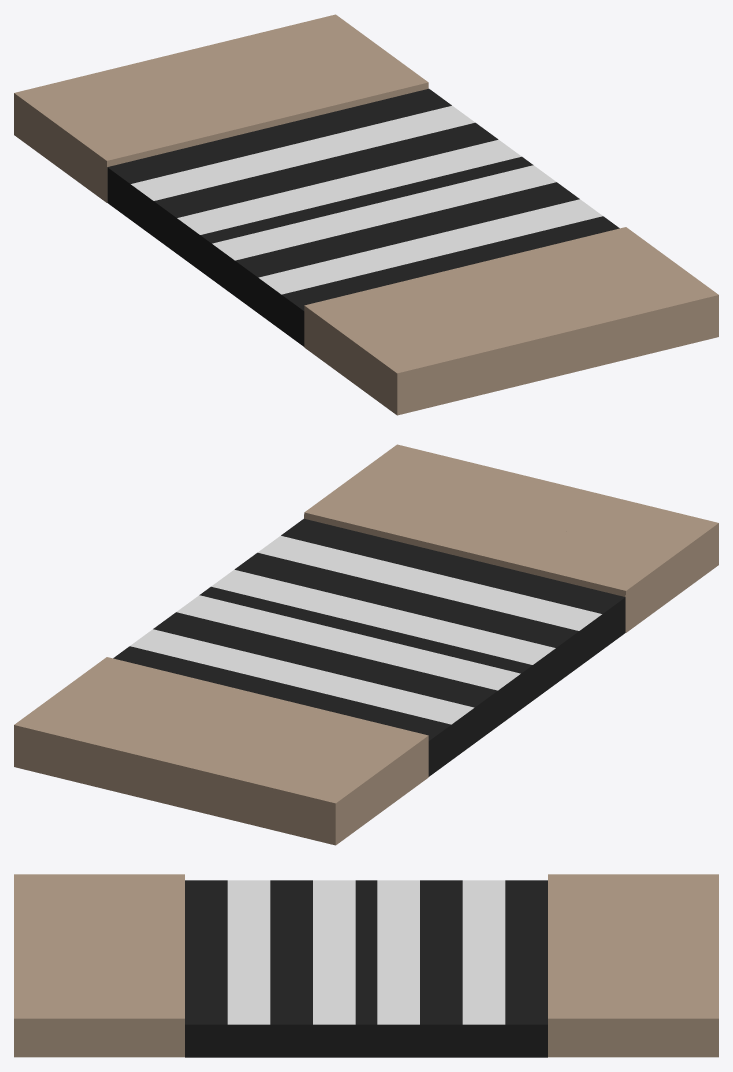
File: crosswalk.fbx
3 renders of one model, top to bottom at view 1: azimuth 30°, elevation 25°; view 2: azimuth 150°, elevation 25°; view 3: azimuth 270°, elevation 25°, orthographic. The views are drawn at different scales.
Visible parts, largest first — view 1: Cube.001; view 2: Cube.001; view 3: Cube.001.
Part boxes in pixels (x1,y1,x2,y2): Cube.001: (14,14,718,415); Cube.001: (14,444,718,845); Cube.001: (14,874,718,1057).
Size of the model in its own units: 1602 by 200 by 3300.
